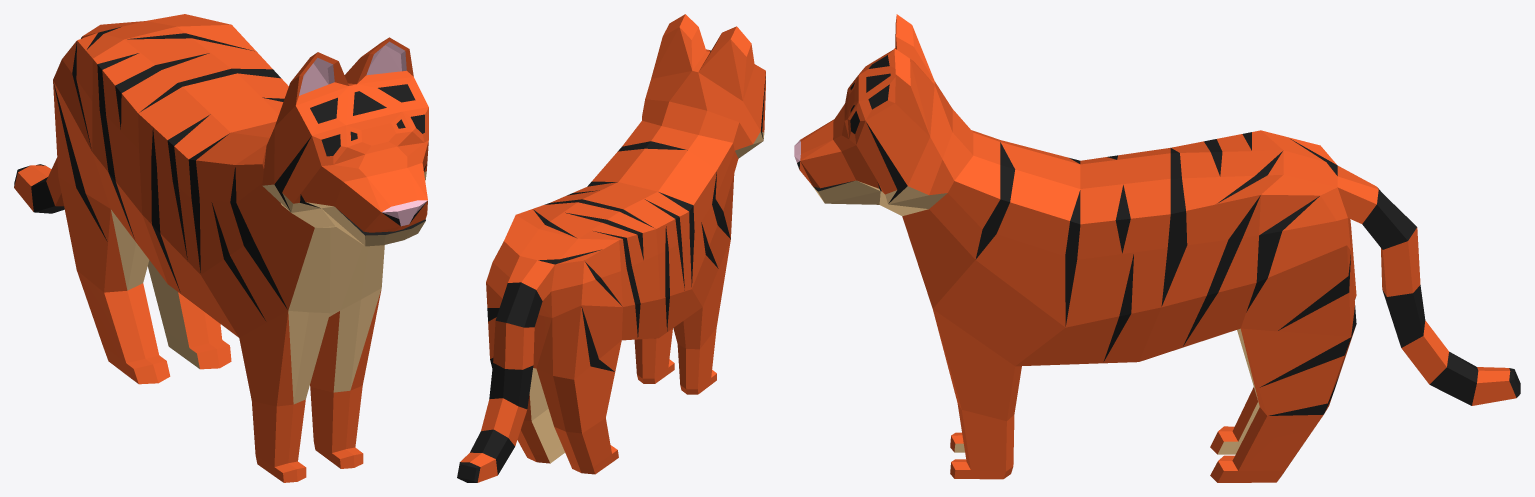
The model's file is Tiger_01.gltf.
3 renders of one model, left to right at view 1: azimuth 30°, elevation 25°; view 2: azimuth 150°, elevation 25°; view 3: azimuth 270°, elevation 25°, orthographic. The views are drawn at different scales.
Parts seen in each view (by area): view 1: node-0; view 2: node-0; view 3: node-0.
Boxes of the visible parts, left/top/right/bottom form: node-0: left=14, top=14, right=428, bottom=482; node-0: left=457, top=14, right=765, bottom=482; node-0: left=794, top=14, right=1520, bottom=482.
Size of the model in its own units: 3.44 by 9.98 by 15.26.
